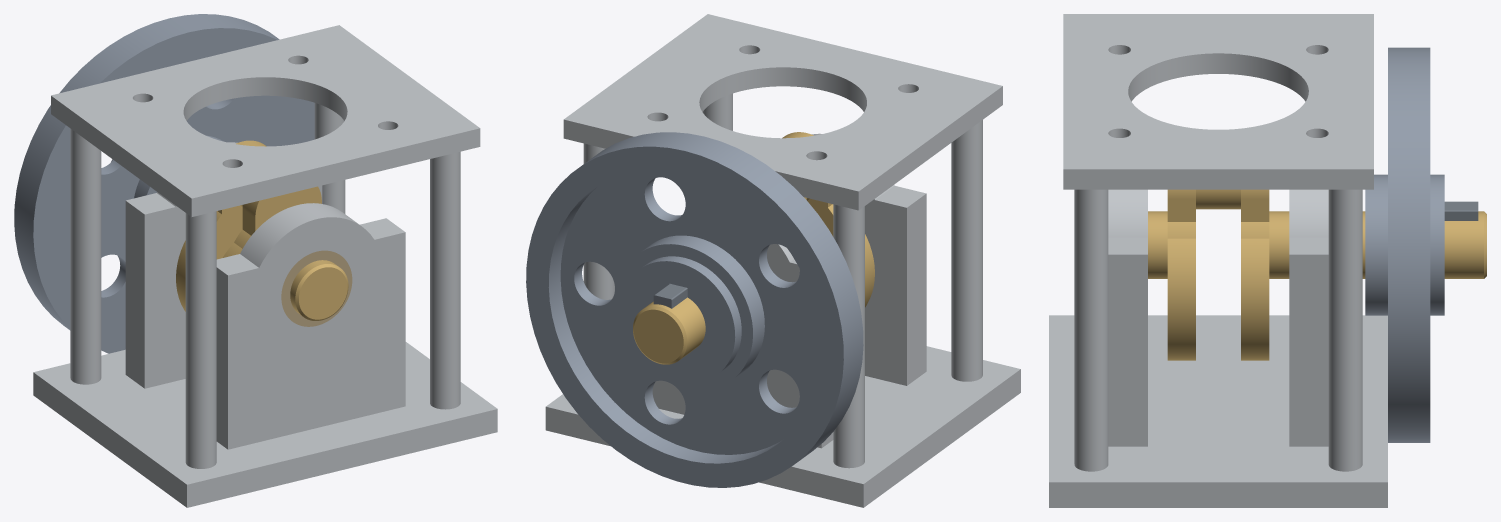
File: step_32.glb
3 views of the same model, side by side, from view 1: azimuth 30°, elevation 25°; view 2: azimuth 150°, elevation 25°; view 3: azimuth 270°, elevation 25° (orthographic). The views are drawn at different scales.
Visible parts, largest first — view 1: part__crankcase frame, part__flywheel, part__crankshaft, part__main bush 2; view 2: part__crankcase frame, part__flywheel, part__crankshaft, part__key 8 x 7 x 22; view 3: part__crankcase frame, part__flywheel, part__crankshaft, part__key 8 x 7 x 22.
Boxes of the visible parts, <box> form: part__crankcase frame: <box>33,25,497,507</box>; part__flywheel: <box>14,14,314,353</box>; part__crankshaft: <box>176,140,348,320</box>; part__main bush 2: <box>281,250,352,326</box>; part__crankcase frame: <box>545,14,1020,507</box>; part__flywheel: <box>526,132,863,487</box>; part__crankshaft: <box>633,132,874,364</box>; part__key 8 x 7 x 22: <box>653,283,687,308</box>; part__crankcase frame: <box>1049,14,1387,507</box>; part__flywheel: <box>1365,47,1444,442</box>; part__crankshaft: <box>1148,189,1486,360</box>; part__key 8 x 7 x 22: <box>1444,201,1478,220</box>.
Size of the model in its own units: 140 by 140 by 155.
